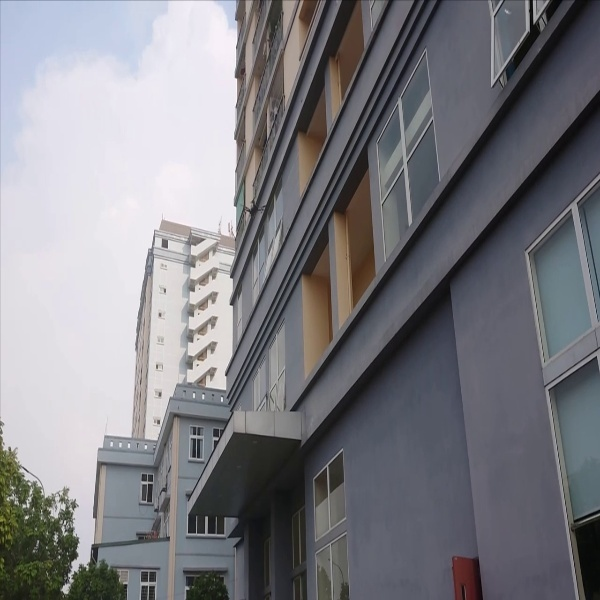drone: (233, 194, 273, 217)
